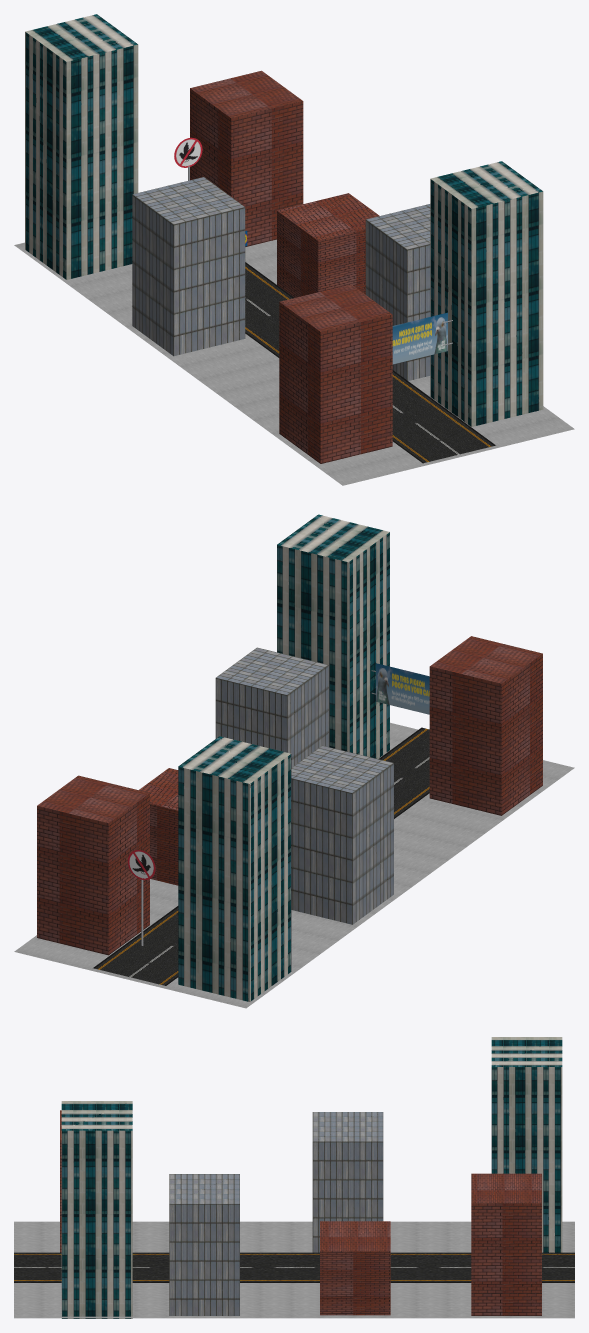
Rendered from butast_primer3.gltf.
3 renders of one model, top to bottom at view 1: azimuth 30°, elevation 25°; view 2: azimuth 150°, elevation 25°; view 3: azimuth 270°, elevation 25°, orthographic. The views are drawn at different scales.
Visible parts, largest first — view 1: 3bloki_desno3, 3bloki_levo4, 3cesta, 3bloki_desno1, 3bloki_desno2, 3bloki_levo1, 3bloki_levo2, 3bloki_levo3, 3golob_ovira, 3golob_znak; view 2: 3bloki_desno3, 3bloki_levo4, 3cesta, 3bloki_desno1, 3bloki_levo1, 3bloki_desno2, 3bloki_levo3, 3bloki_levo2, 3golob_ovira, 3golob_znak; view 3: 3cesta, 3bloki_levo4, 3bloki_desno3, 3bloki_levo1, 3bloki_levo3, 3bloki_desno2, 3bloki_levo2.
Boxes of the visible parts, x1=… form: 3bloki_desno3: x1=25, y1=14, x2=138, y2=279; 3bloki_levo4: x1=430, y1=161, x2=543, y2=426; 3cesta: x1=14, y1=239, x2=574, y2=485; 3bloki_desno1: x1=279, y1=284, x2=392, y2=463; 3bloki_desno2: x1=132, y1=177, x2=245, y2=356; 3bloki_levo1: x1=190, y1=70, x2=303, y2=246; 3bloki_levo2: x1=277, y1=193, x2=379, y2=297; 3bloki_levo3: x1=365, y1=204, x2=430, y2=380; 3golob_ovira: x1=392, y1=312, x2=452, y2=364; 3golob_znak: x1=174, y1=137, x2=202, y2=180; 3bloki_desno3: x1=178, y1=736, x2=291, y2=1001; 3bloki_levo4: x1=277, y1=514, x2=389, y2=758; 3cesta: x1=14, y1=722, x2=574, y2=1008; 3bloki_desno1: x1=429, y1=636, x2=542, y2=815; 3bloki_levo1: x1=37, y1=775, x2=149, y2=955; 3bloki_desno2: x1=291, y1=745, x2=393, y2=924; 3bloki_levo3: x1=215, y1=647, x2=328, y2=767; 3bloki_levo2: x1=139, y1=768, x2=178, y2=885; 3golob_ovira: x1=371, y1=663, x2=429, y2=714; 3golob_znak: x1=127, y1=850, x2=155, y2=945; 3cesta: x1=14, y1=1221, x2=574, y2=1318; 3bloki_levo4: x1=61, y1=1101, x2=132, y2=1318; 3bloki_desno3: x1=491, y1=1037, x2=562, y2=1252; 3bloki_levo1: x1=471, y1=1173, x2=541, y2=1315; 3bloki_levo3: x1=169, y1=1174, x2=239, y2=1315; 3bloki_desno2: x1=312, y1=1112, x2=383, y2=1252; 3bloki_levo2: x1=320, y1=1221, x2=390, y2=1315.
Bounding box in the file's own units: 9.27 × 8.41 × 22.73.
Materials: 15 (15 with a texture image).
